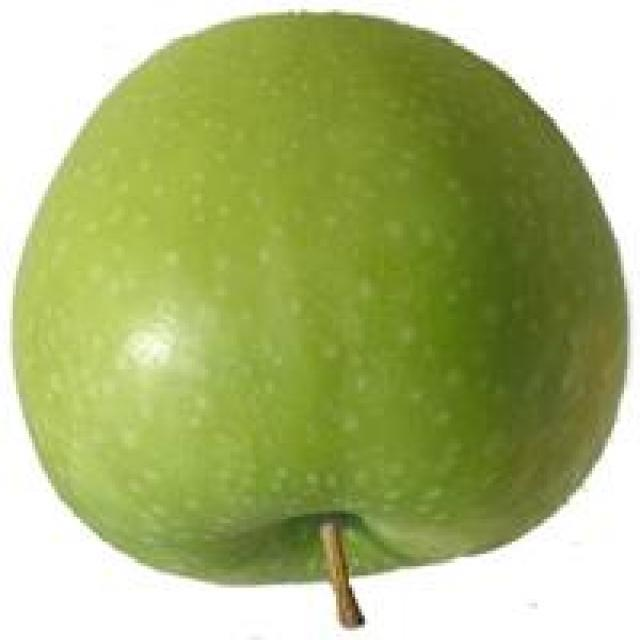Apple: (51, 43, 611, 603)
